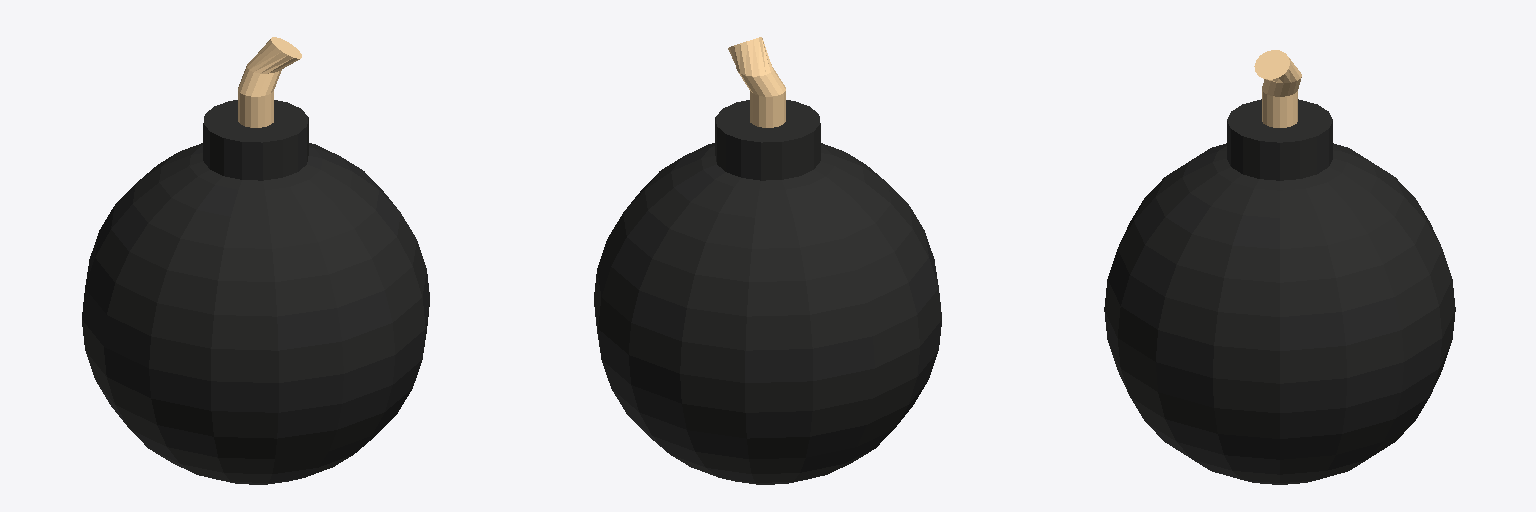
3 renders of one model, left to right at view 1: azimuth 30°, elevation 25°; view 2: azimuth 150°, elevation 25°; view 3: azimuth 270°, elevation 25°, orthographic.
Parts seen in each view (by area): view 1: Sphere, Cylinder, Cylinder.001; view 2: Sphere, Cylinder, Cylinder.001; view 3: Sphere, Cylinder, Cylinder.001.
Part boxes in pixels (x1,y1,x2,y2): Sphere: (82, 143, 429, 484); Cylinder: (203, 100, 308, 180); Cylinder.001: (238, 37, 301, 127); Sphere: (594, 143, 941, 484); Cylinder: (715, 100, 820, 180); Cylinder.001: (728, 37, 785, 127); Sphere: (1104, 143, 1455, 484); Cylinder: (1227, 99, 1332, 180); Cylinder.001: (1254, 50, 1301, 127).
Bounding box in the file's own units: 2 × 2.67 × 2.
Materials: 1 (1 with a texture image).